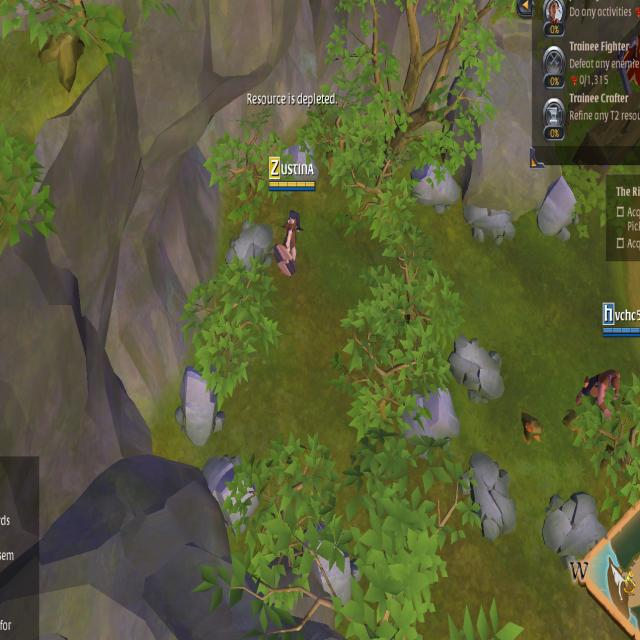broken stone: (458, 436, 524, 550), (434, 313, 512, 404), (532, 477, 605, 573), (462, 186, 520, 258), (225, 203, 277, 282)
stone: (195, 445, 267, 530), (400, 377, 461, 469), (170, 364, 235, 447), (531, 163, 580, 249), (412, 158, 460, 218)
